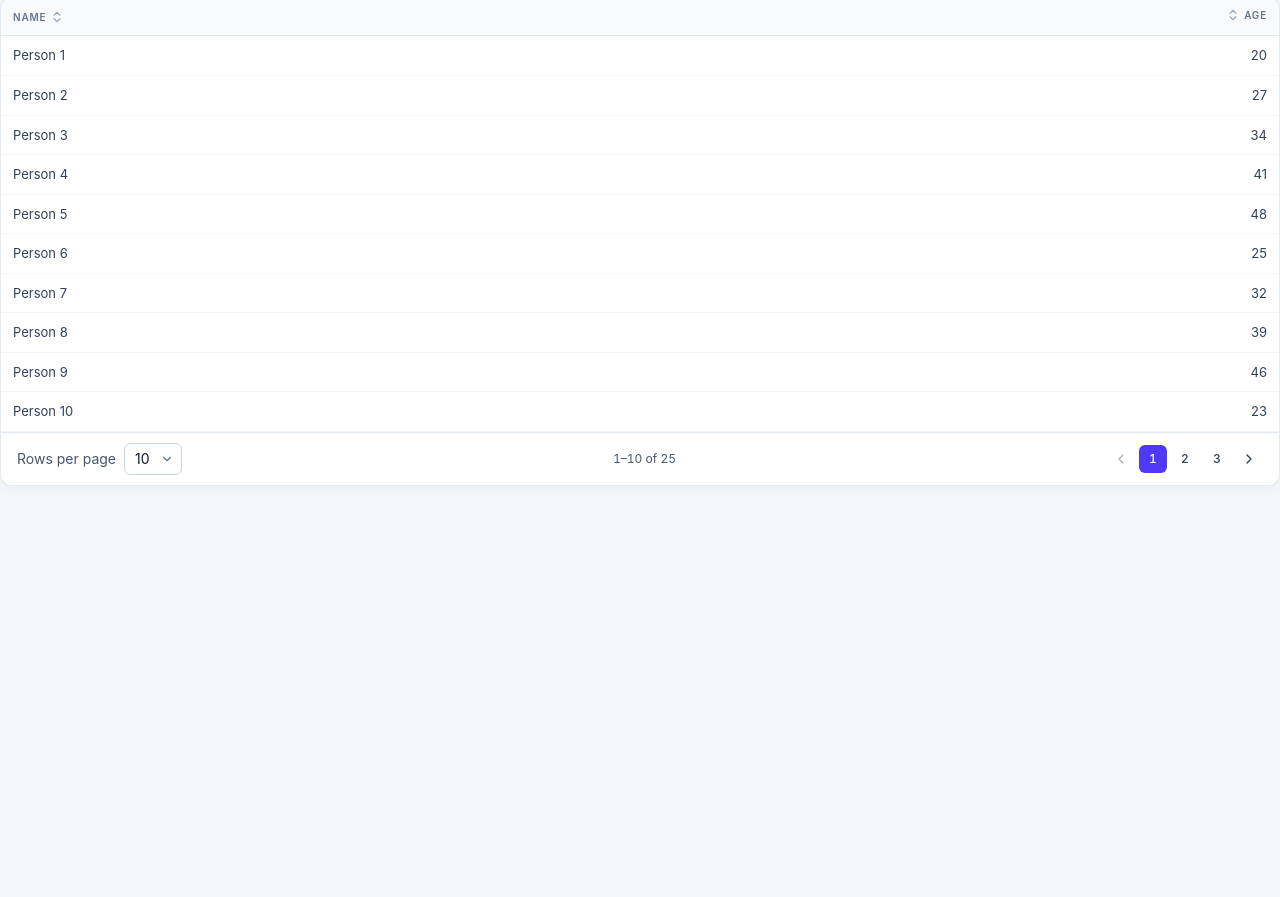
Test: DataTable › moves between pages and changes the page size
The image size is (1280, 897).
Expected: the text "1–10 of 25" is shown, 613,451 -> 676,467
Click the button named "Next page": [1249, 459] box 1235,445 -> 1263,473
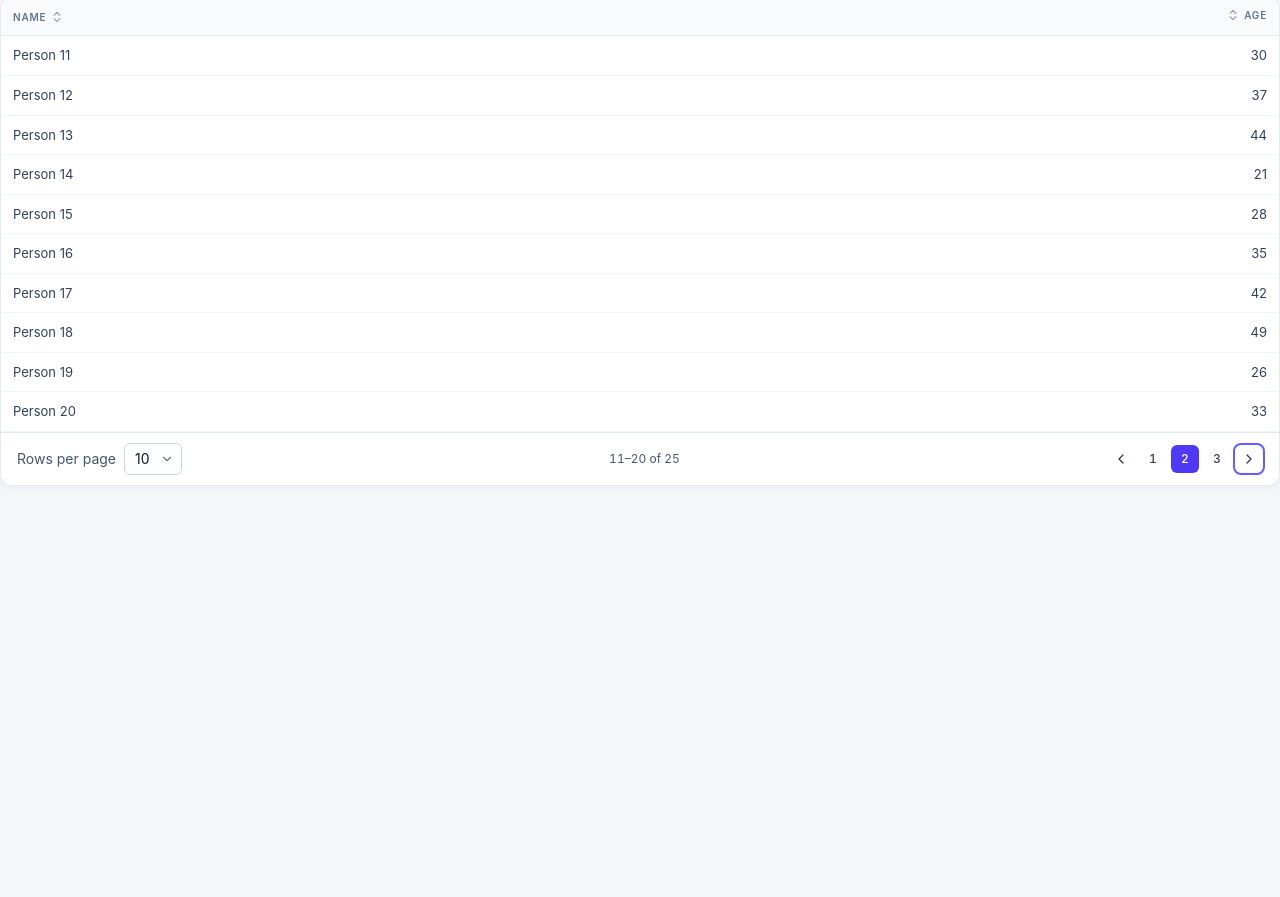
Expected: the text "11–20 of 25" is shown, 609,451 -> 680,467
Expected: the text "Person 11" is shown, 13,47 -> 70,63
Select "25" in the dropdown labelled "Rows per page": [153, 459] box 124,443 -> 182,475
(page scrolled)
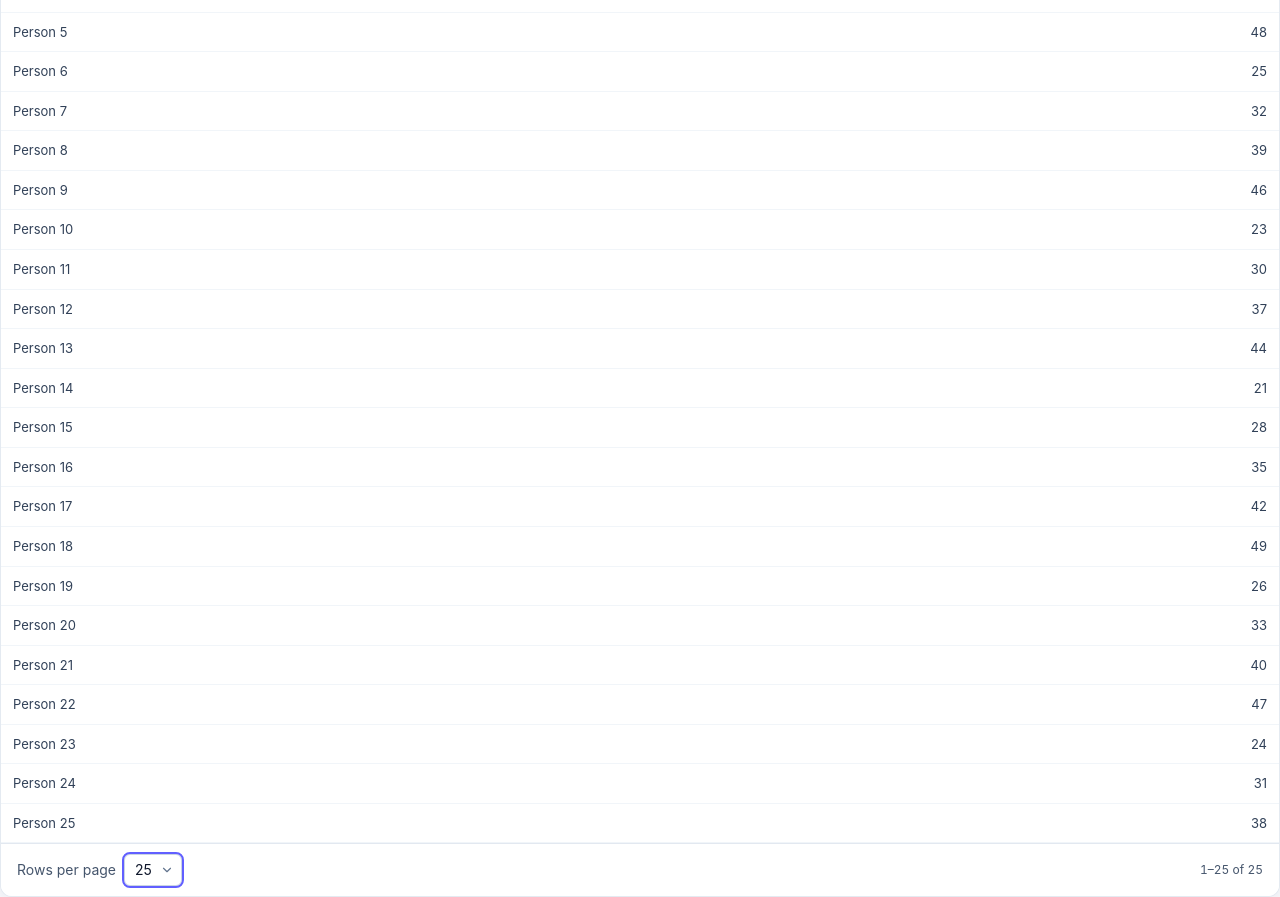
Expected: the text "1–25 of 25" is shown, 1200,862 -> 1263,878
